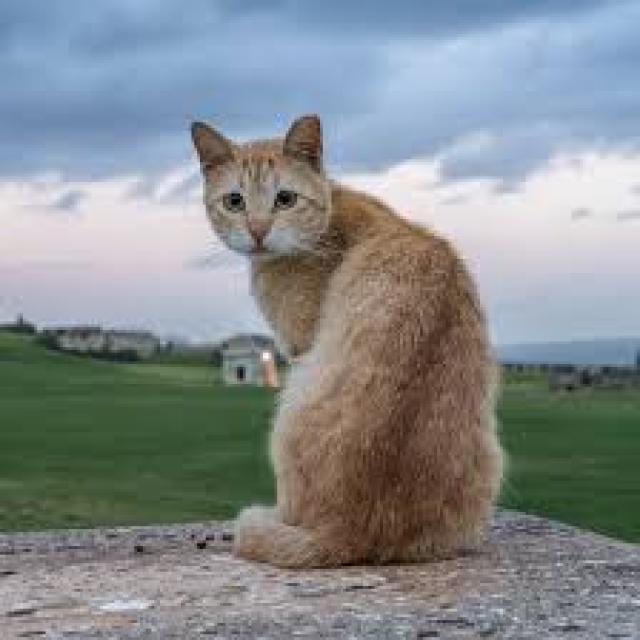dogs: (177, 104, 527, 576)
